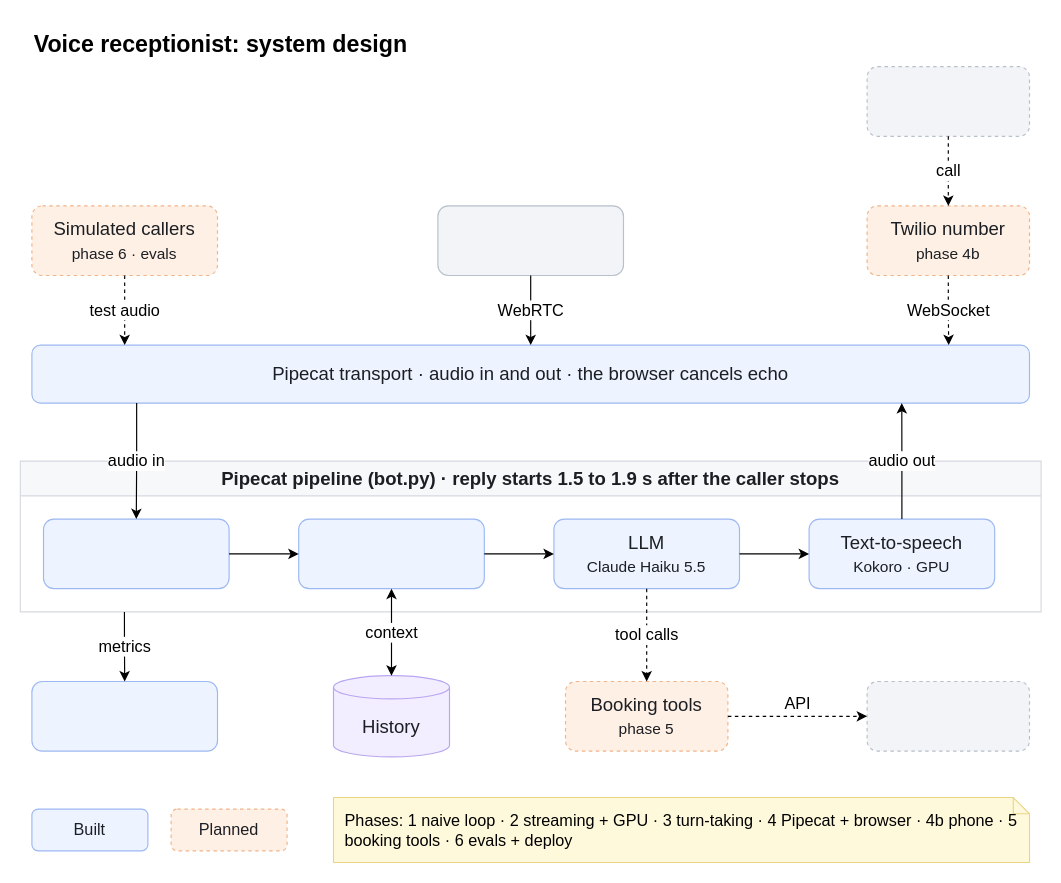
Some shapes in this 1061 by 883 pixel diagram are drawn without their labels. Each missing label, with the centre of its shape:
Browser caller Pipecat web client: the point at 530,240
Calendar external API: the point at 948,715
Latency observer per-stage timings: the point at 124,715
Phone caller any phone: the point at 948,101
Speech-to-text Whisper · GPU: the point at 135,553
Turn detection VAD + Smart Turn: the point at 391,553
